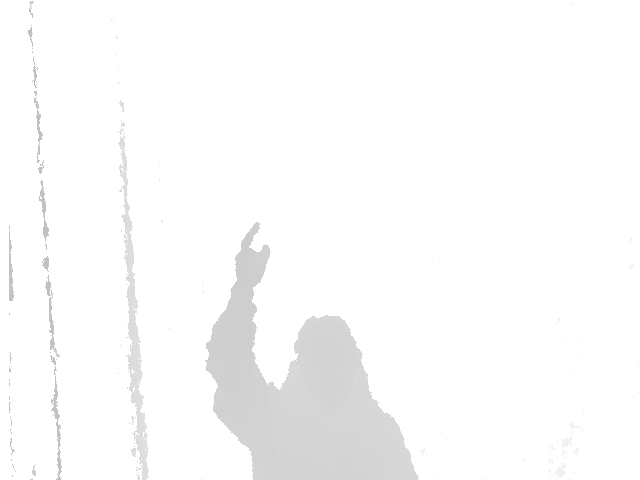hand: (233, 221, 271, 286)
head: (281, 315, 371, 390)
person: (206, 220, 418, 479)
